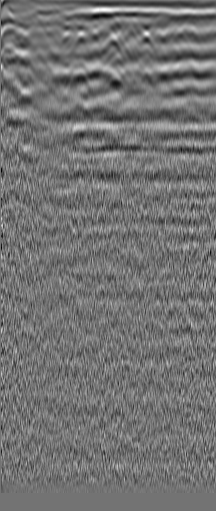오수: (25, 18, 45, 38)
우수: (160, 25, 180, 45)
